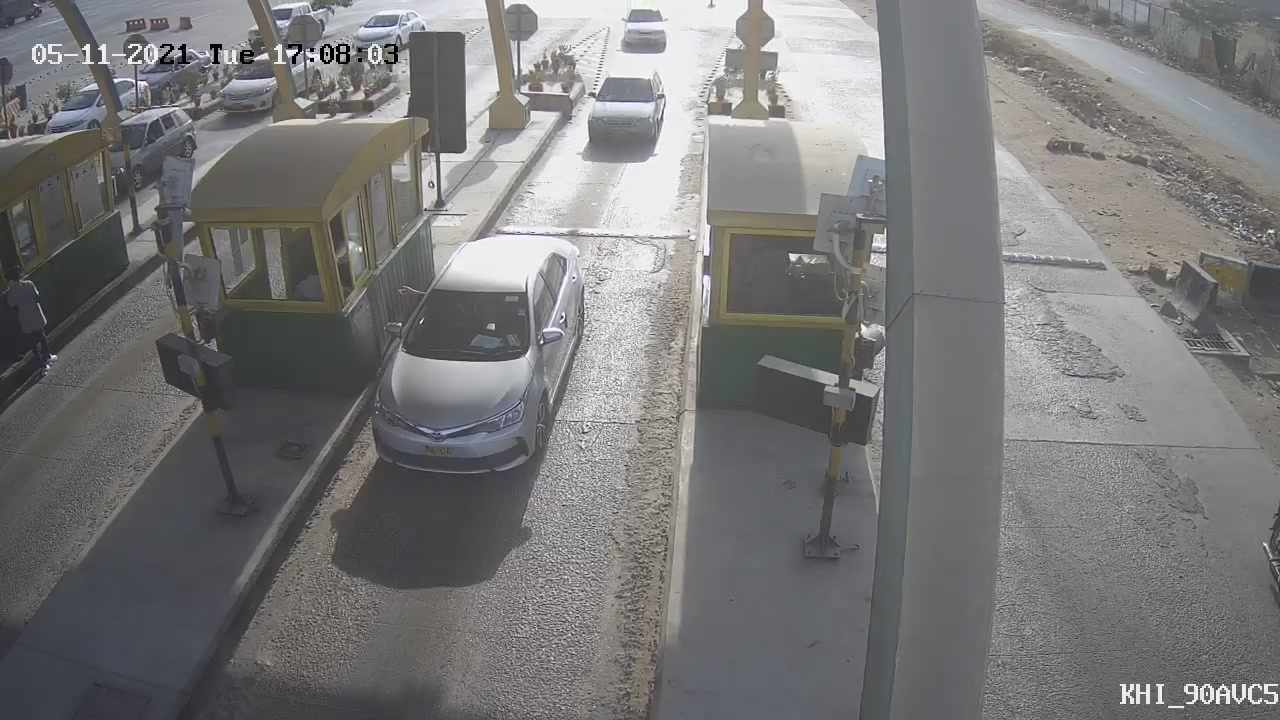F1: (351, 216, 603, 498), (570, 55, 678, 169)
